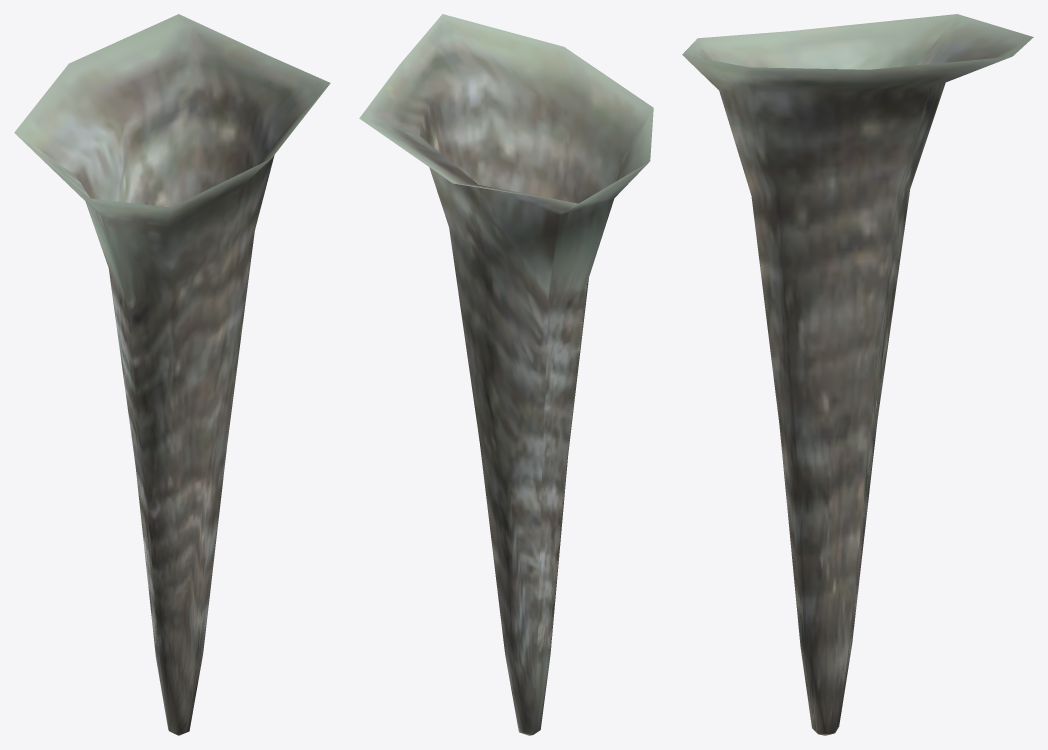
The model's file is TROLLHOLE02_PS-MAINSTALAG35.fbx.
3 renders of one model, left to right at view 1: azimuth 30°, elevation 25°; view 2: azimuth 150°, elevation 25°; view 3: azimuth 270°, elevation 25°, orthographic. The views are drawn at different scales.
Parts seen in each view (by area): view 1: TROLLHOLE02_PS-MAINSTALAG35; view 2: TROLLHOLE02_PS-MAINSTALAG35; view 3: TROLLHOLE02_PS-MAINSTALAG35.
Boxes of the visible parts, box(x1,y1,x2,y2) form: TROLLHOLE02_PS-MAINSTALAG35: box(14, 14, 330, 735); TROLLHOLE02_PS-MAINSTALAG35: box(359, 14, 653, 735); TROLLHOLE02_PS-MAINSTALAG35: box(682, 14, 1033, 735).
Bounding box in the file's own units: 8703 × 24027 × 10443.
1 material, 1 textured.
